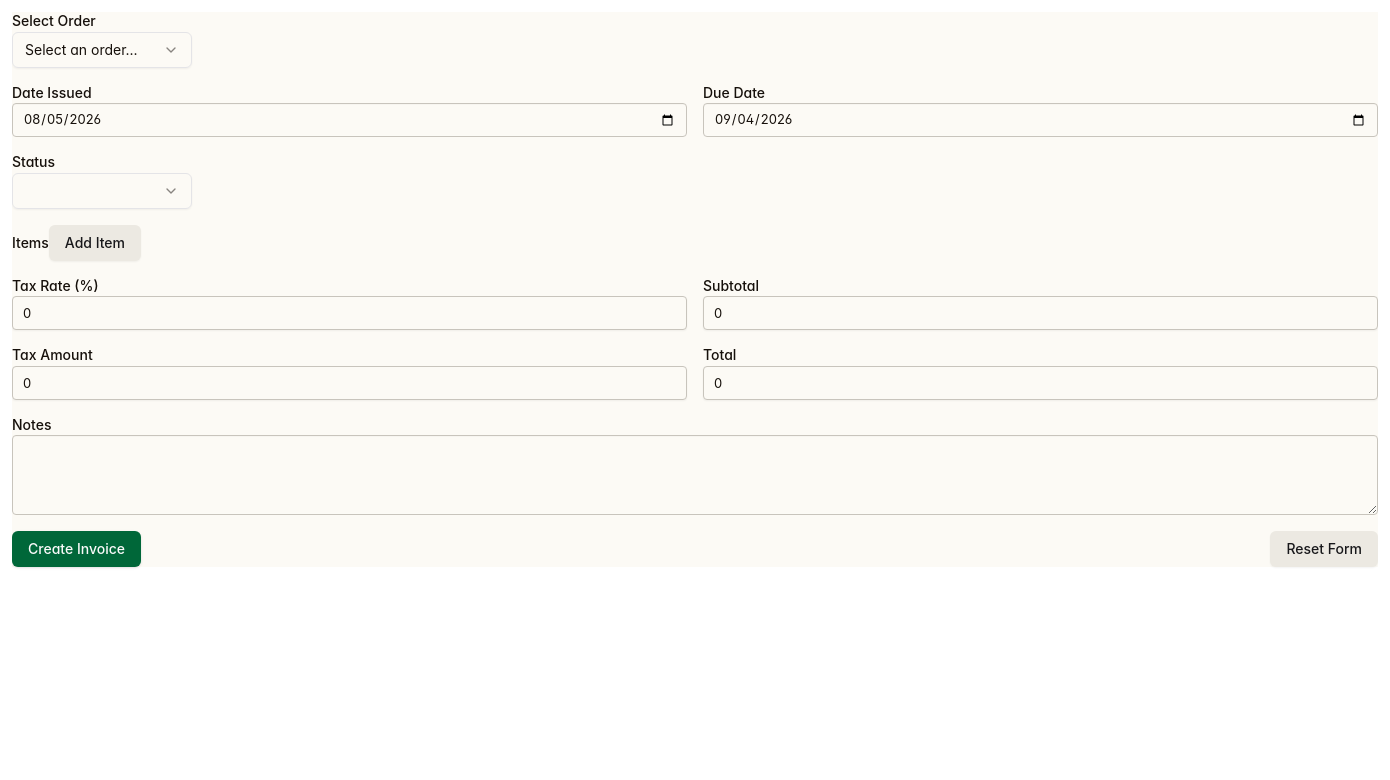
Test: InvoiceForm › Remove button deletes an item row
Click the button "Add Item". click: x=95, y=242
box: [49, 224, 141, 260]
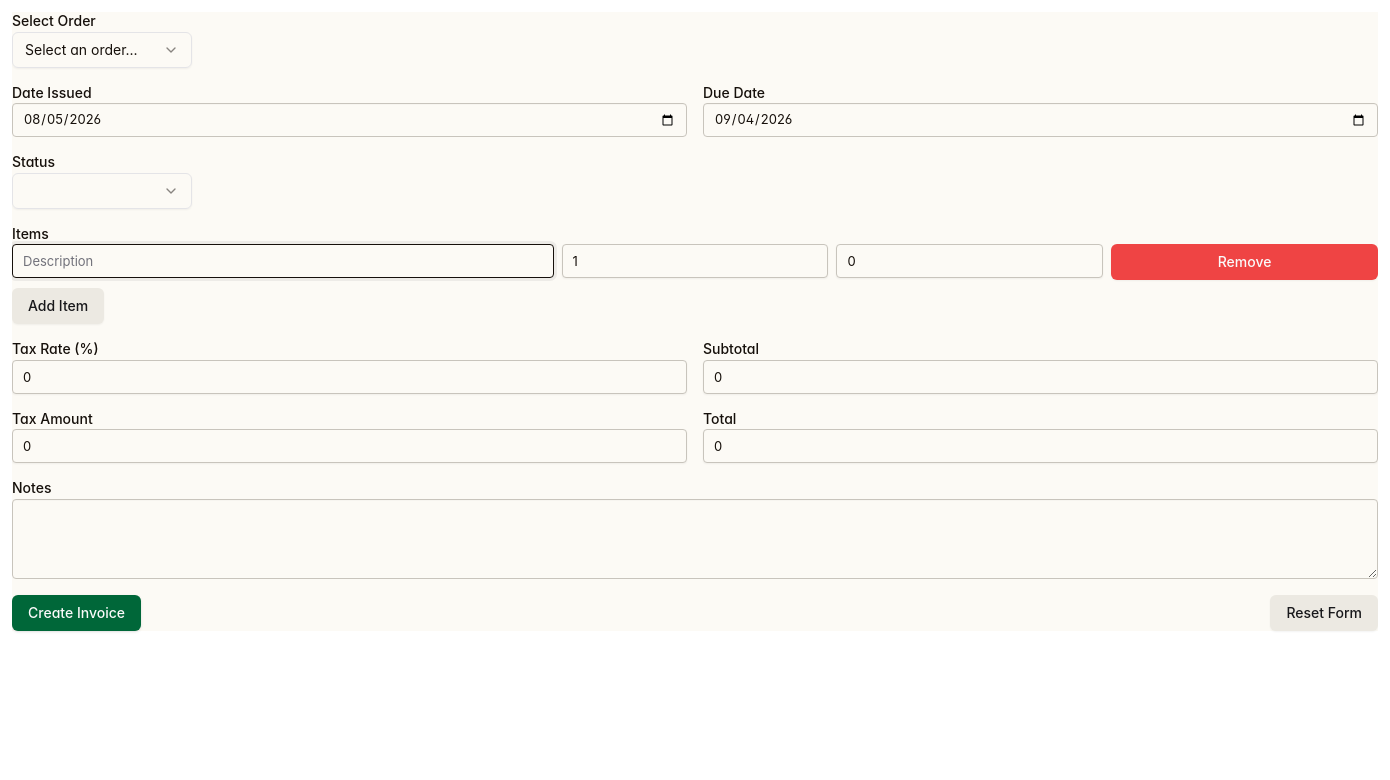
Expected: the field with placeholder "Description" is shown, [12, 244, 554, 278]
Click the button "Remove". click: x=1245, y=262
box: [1111, 244, 1378, 280]
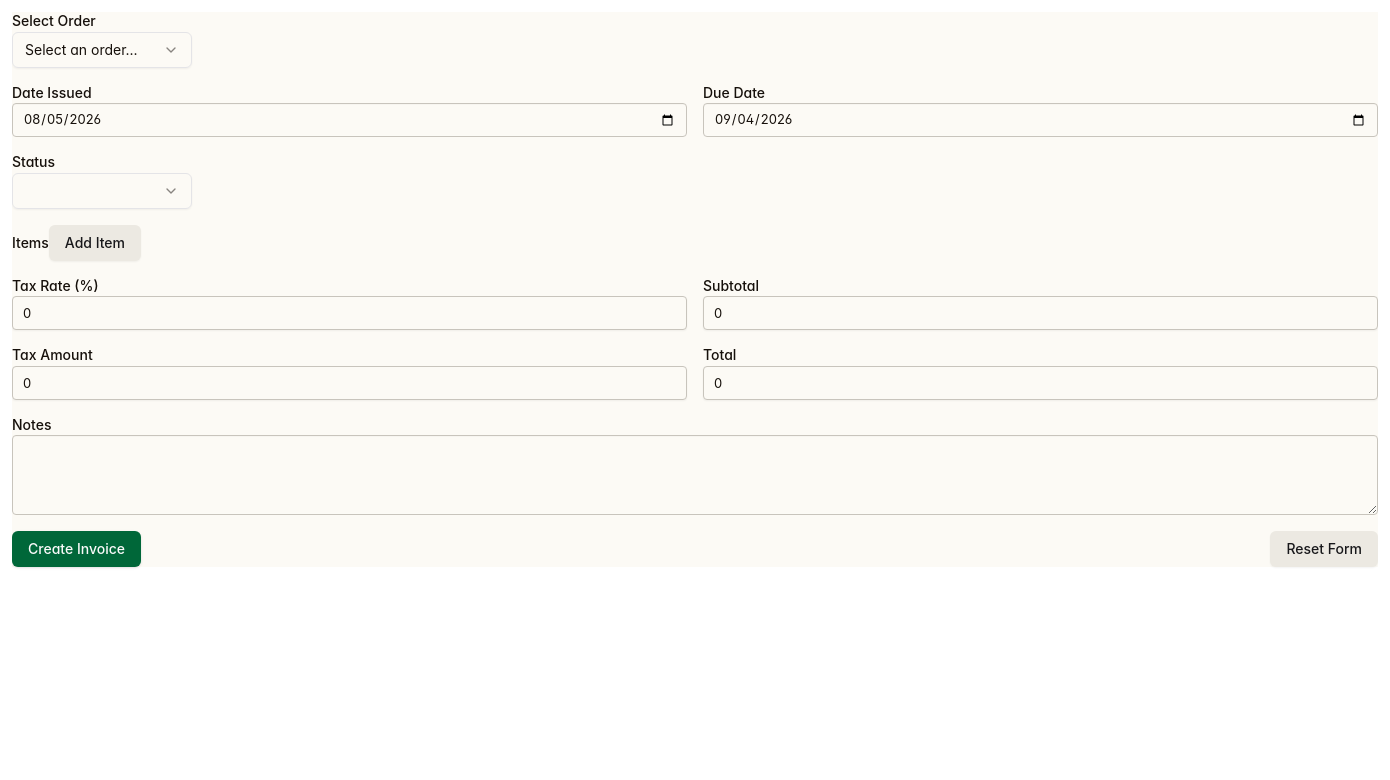
Expected: the field with placeholder "description" is gone
